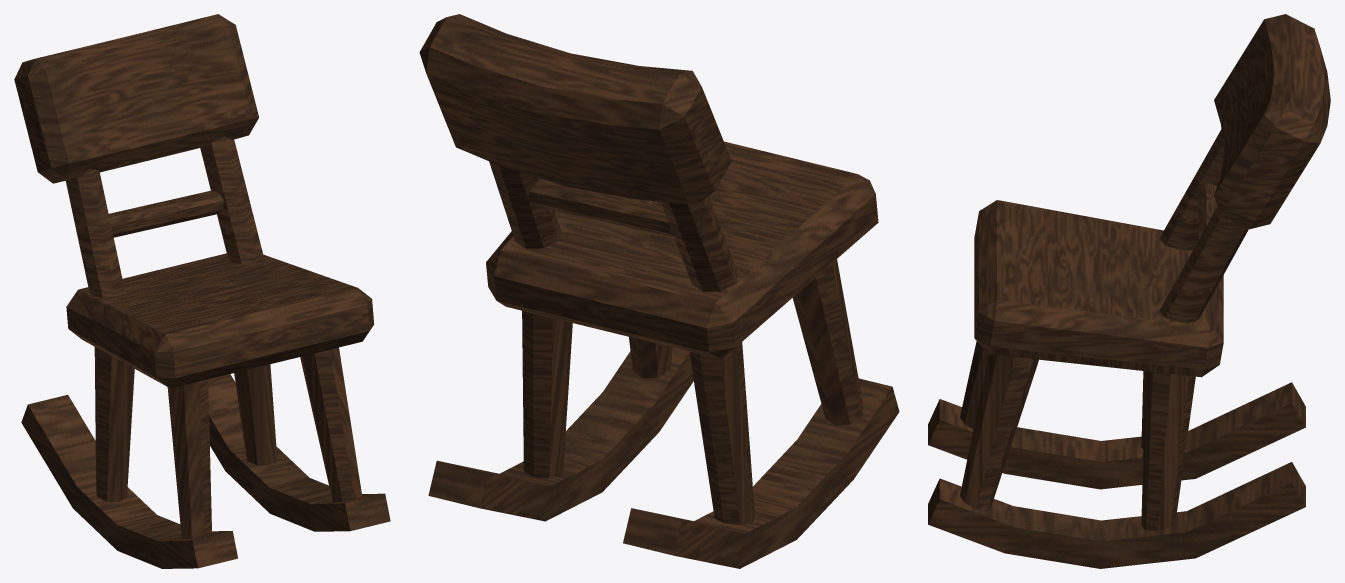
Rendered from ChairRocking.fbx.
3 renders of one model, left to right at view 1: azimuth 30°, elevation 25°; view 2: azimuth 150°, elevation 25°; view 3: azimuth 270°, elevation 25°, orthographic. The views are drawn at different scales.
Parts seen in each view (by area): view 1: chair_rest.002, chair_top.002, chair_leg, chair_leg.002, chair_top_arms.003, chair_top_arms.004; view 2: chair_top.002, chair_rest.002, chair_leg, chair_leg.002, chair_top_arms.003, chair_top_arms.004; view 3: chair_top.002, chair_leg, chair_rest.002, chair_leg.002, chair_top_arms.003, chair_top_arms.004.
Boxes of the visible parts, x1=… form: chair_rest.002: x1=14, y1=14, x2=258, y2=183; chair_top.002: x1=66, y1=253, x2=374, y2=388; chair_leg: x1=21, y1=374, x2=390, y2=568; chair_leg.002: x1=94, y1=347, x2=362, y2=539; chair_top_arms.003: x1=65, y1=136, x2=263, y2=297; chair_top_arms.004: x1=108, y1=190, x2=223, y2=237; chair_top.002: x1=486, y1=141, x2=878, y2=358; chair_rest.002: x1=419, y1=14, x2=731, y2=204; chair_leg: x1=428, y1=347, x2=899, y2=568; chair_leg.002: x1=522, y1=259, x2=863, y2=524; chair_top_arms.003: x1=489, y1=161, x2=737, y2=291; chair_top_arms.004: x1=528, y1=178, x2=673, y2=237; chair_top.002: x1=974, y1=200, x2=1223, y2=377; chair_leg: x1=928, y1=382, x2=1305, y2=568; chair_rest.002: x1=1214, y1=14, x2=1330, y2=229; chair_leg.002: x1=960, y1=341, x2=1195, y2=531; chair_top_arms.003: x1=1159, y1=129, x2=1248, y2=322; chair_top_arms.004: x1=1198, y1=183, x2=1217, y2=240.
Size of the model in its own units: 0.511 by 0.9593 by 0.7659.
1 material, 1 textured.
